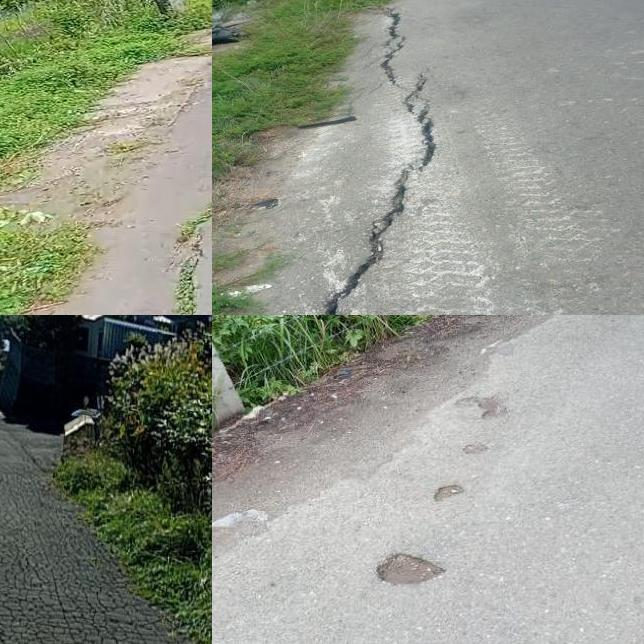Lubang: (380, 549, 440, 586)
Memanjang: (298, 94, 447, 315), (160, 164, 212, 315)
Retak Buaya: (0, 456, 193, 644)
